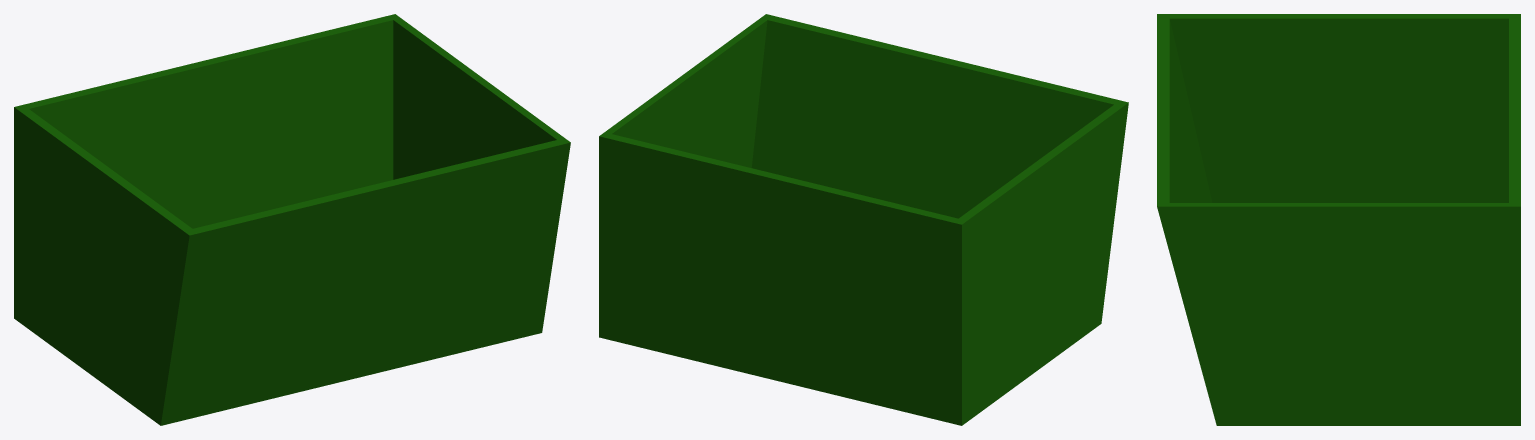
Rendered from container.fbx.
The picture shows the model from 3 angles, left to right: view 1: azimuth 30°, elevation 25°; view 2: azimuth 150°, elevation 25°; view 3: azimuth 270°, elevation 25°; orthographic projection. The views are drawn at different scales.
Visible parts, largest first — view 1: Cube; view 2: Cube; view 3: Cube.
Part boxes in pixels (box(x1,y1,x2,y2)): Cube: box(14, 14, 570, 425); Cube: box(599, 14, 1128, 425); Cube: box(1157, 14, 1520, 425).
Size of the model in its own units: 3 by 1.59 by 2.39.
